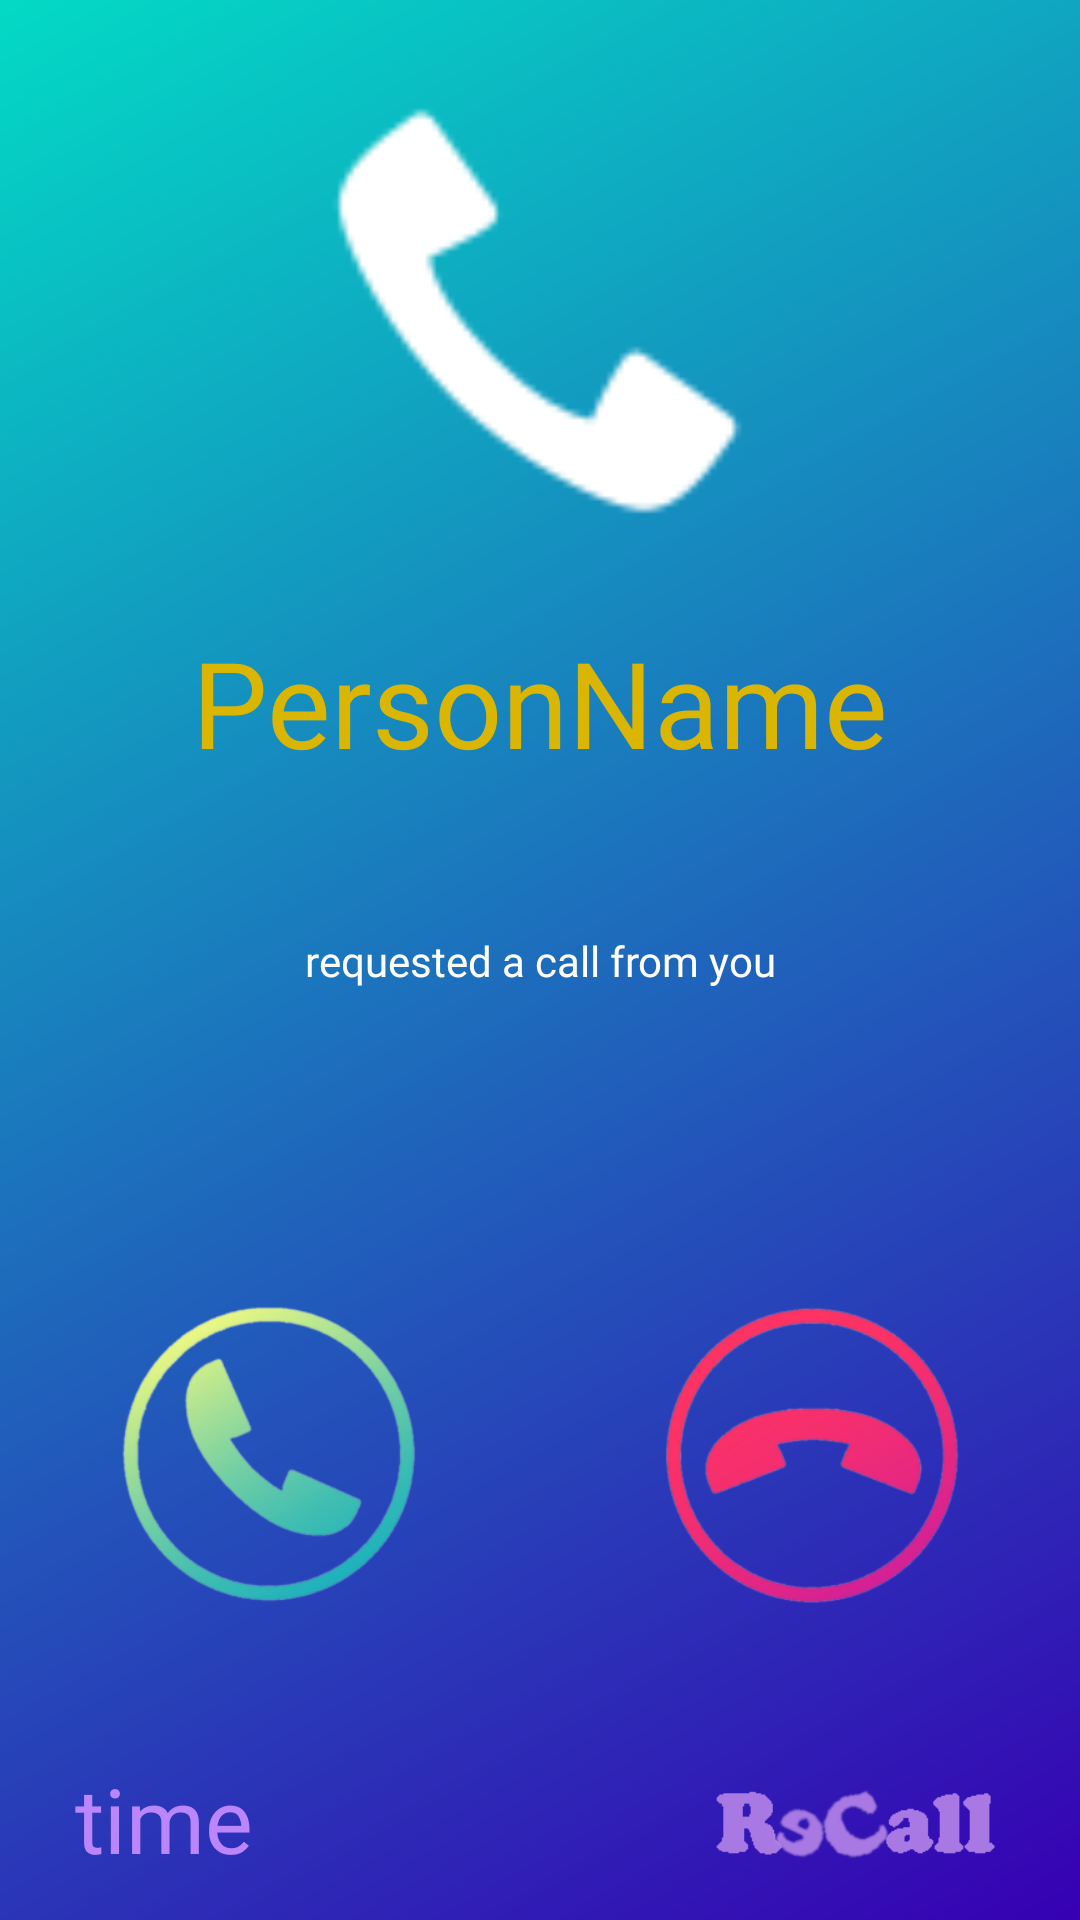

Screen size 1080w x 1920h. Icon name, then its center in pixels as (x,y):
call reject: (786,1454)
